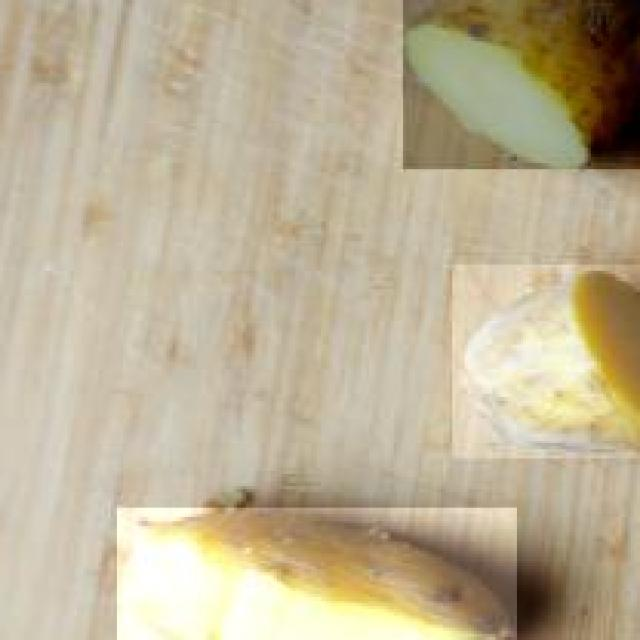potato: (114, 504, 517, 640), (400, 0, 640, 172), (449, 264, 640, 462)
